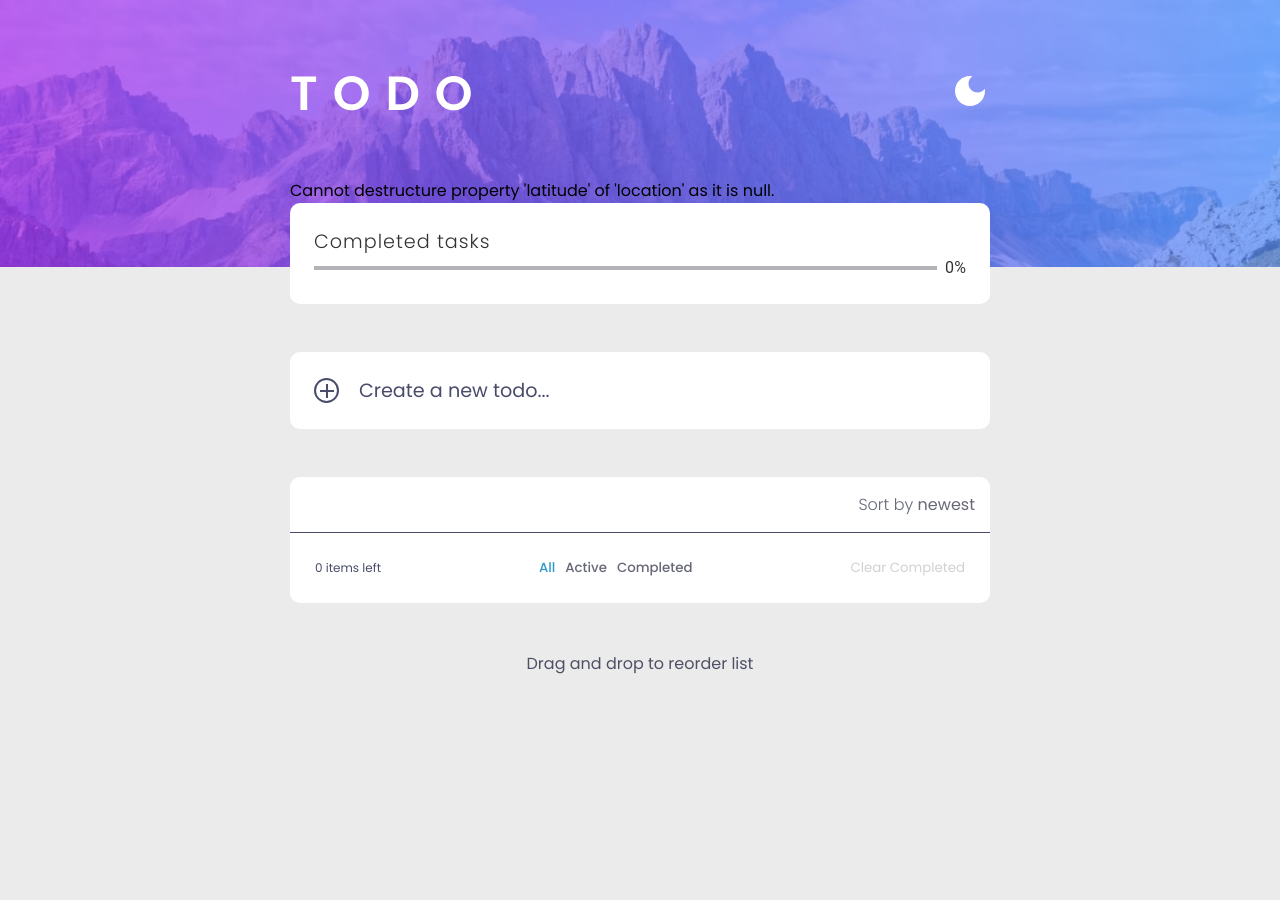
ToDoList Component › renders progress linear bar
In the field with placeholder "Create a new todo...": [652, 390] box [339,376,966,405], type "New task"
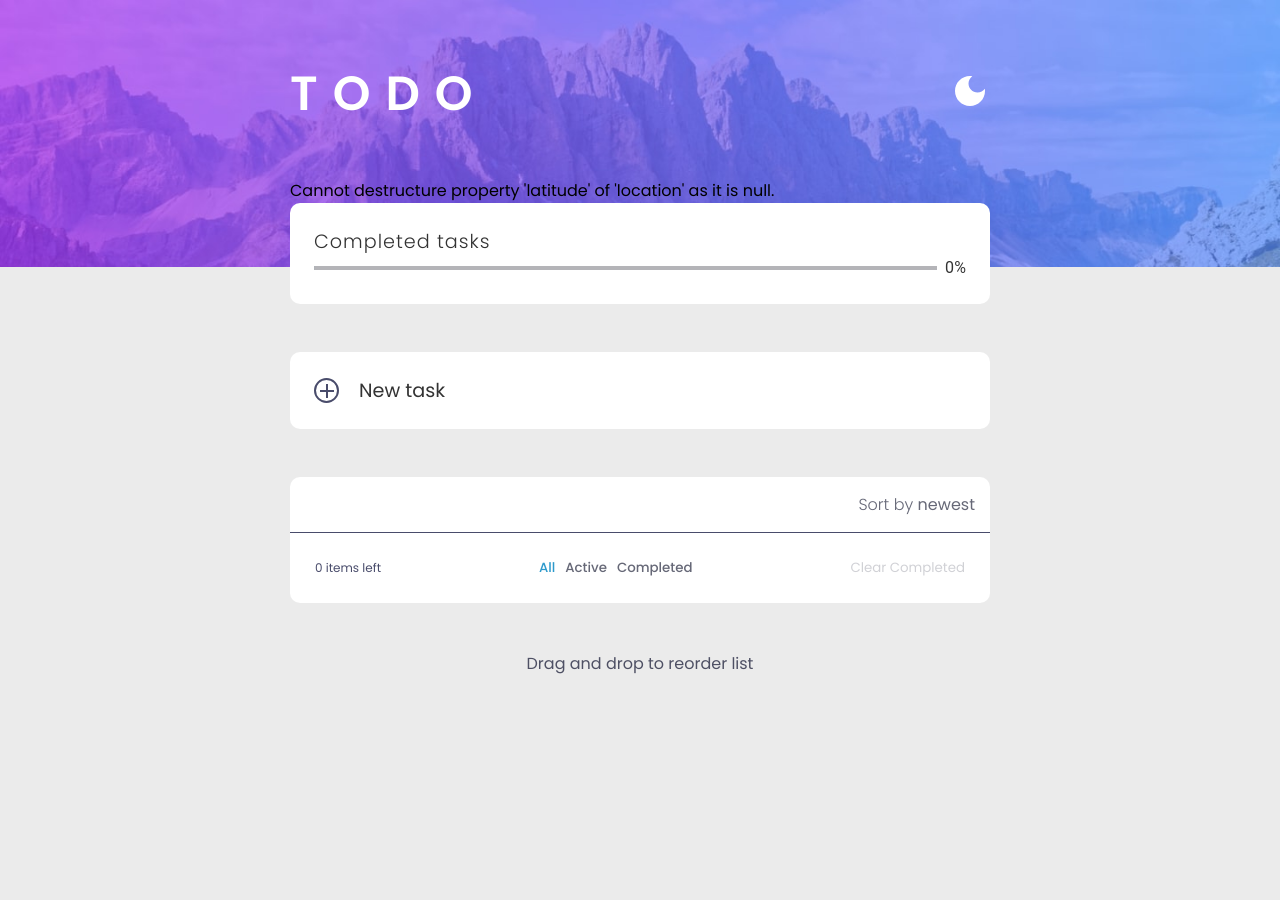
Press Enter in the field with placeholder "Create a new todo...", box [339,376,966,405]
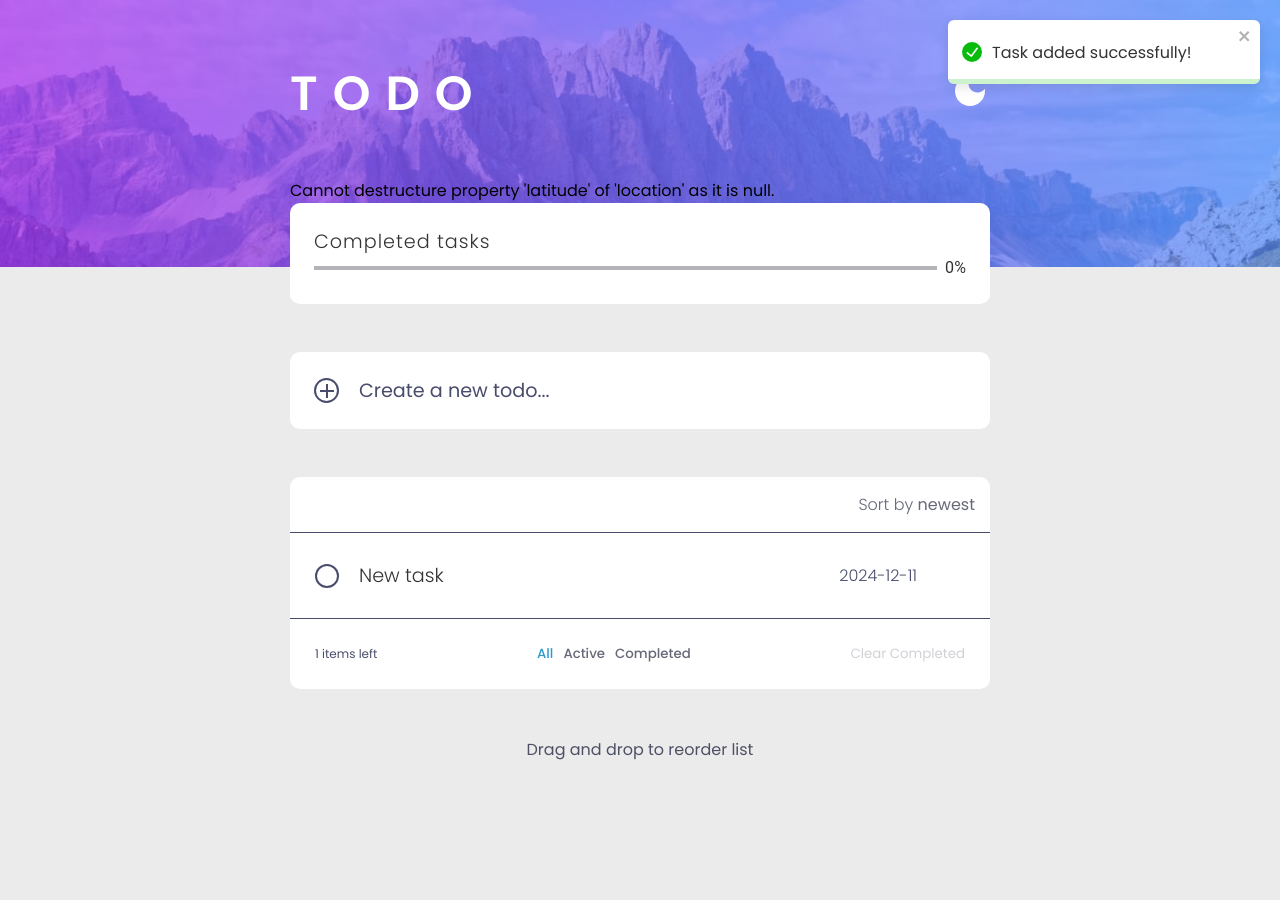
In the field with placeholder "Create a new todo...": [652, 390] box [339,376,966,405], type "Add task"
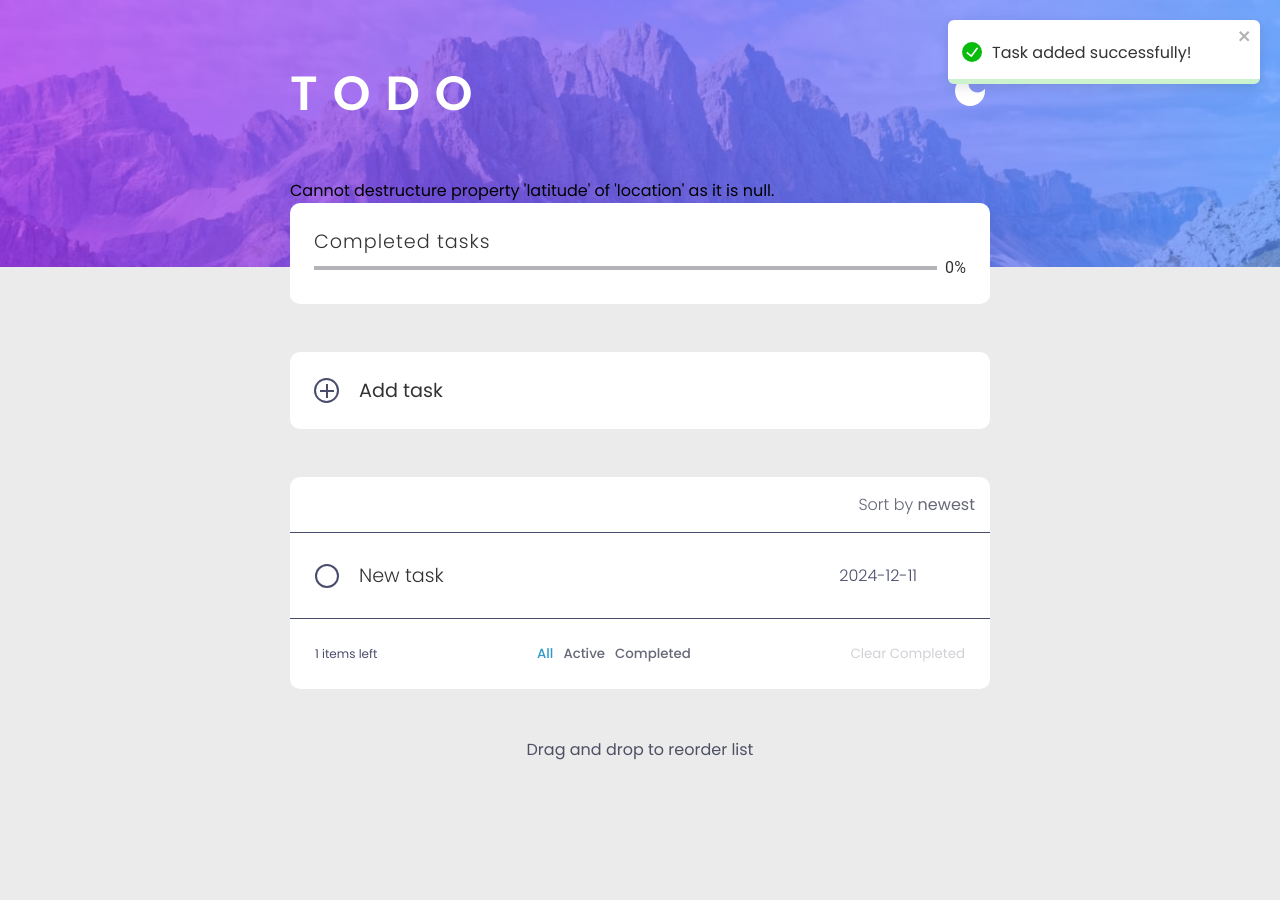
Press Enter in the field with placeholder "Create a new todo...", box [339,376,966,405]
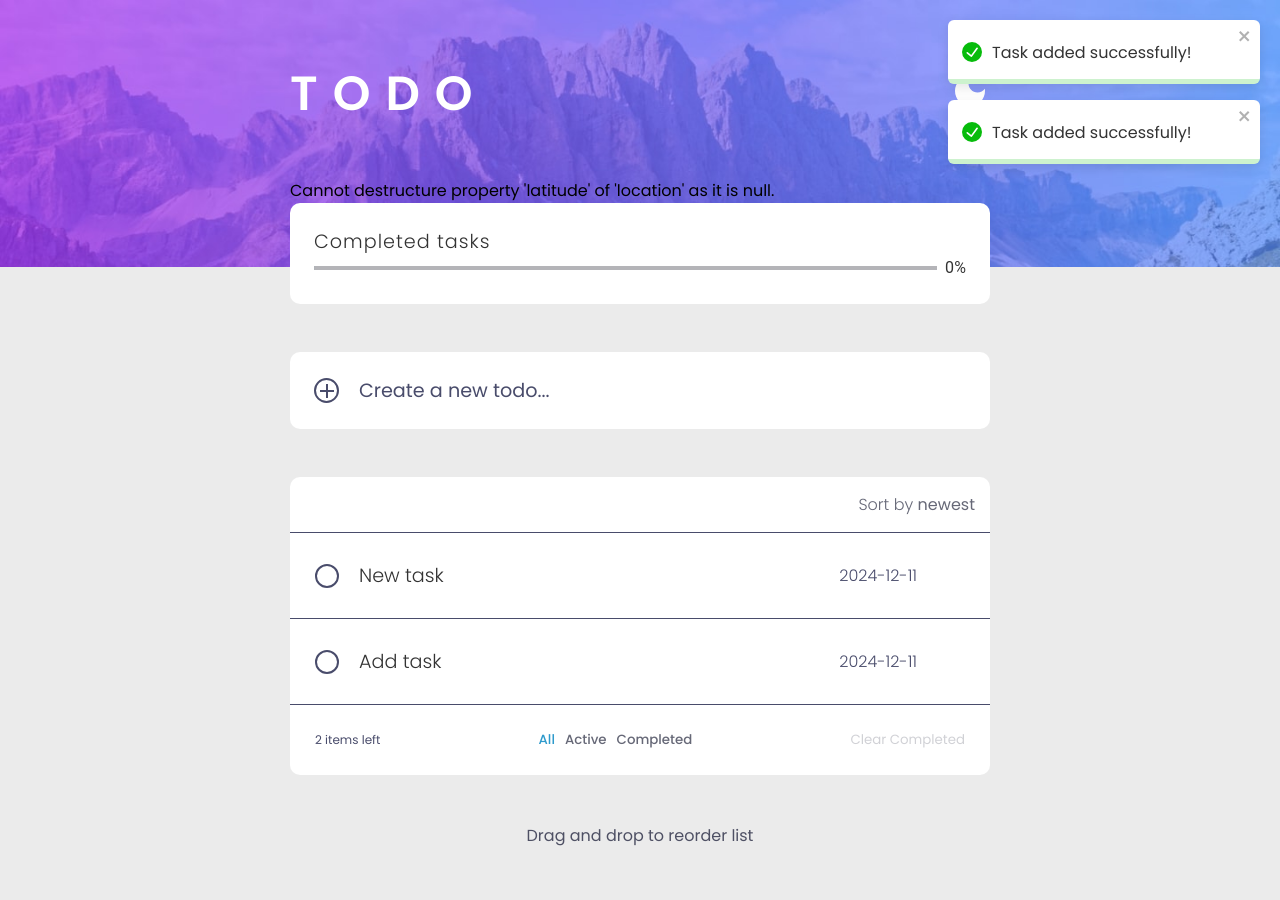
Click the checkbox next to "New task": [327, 576] box [315,564,339,588]
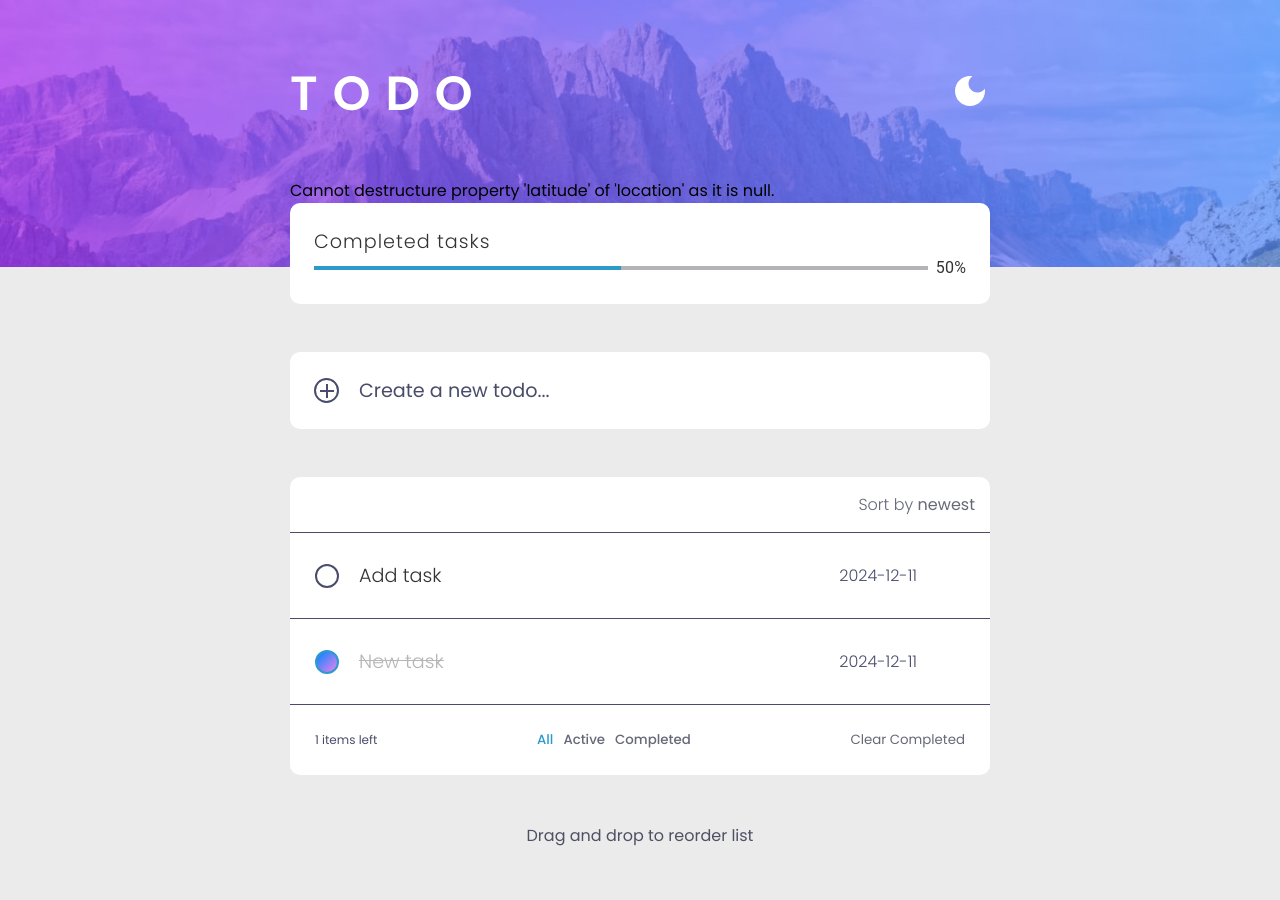
Check: the text "50%" is shown, box [936,256,966,280]
